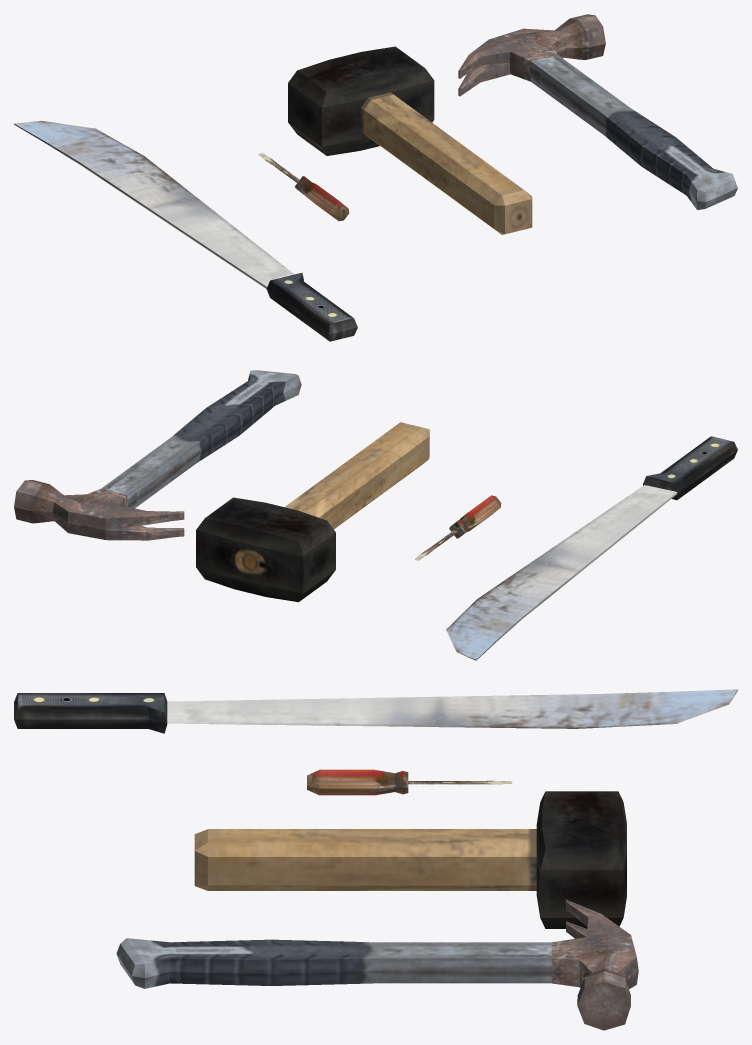
The model's file is OldTools.fbx.
The picture shows the model from 3 angles, top to bottom: view 1: azimuth 30°, elevation 25°; view 2: azimuth 150°, elevation 25°; view 3: azimuth 270°, elevation 25°; orthographic projection. The views are drawn at different scales.
Visible parts, largest first — view 1: DrillingHammer, ClawHammer, Machete, Screwdriver; view 2: DrillingHammer, ClawHammer, Machete, Screwdriver; view 3: DrillingHammer, ClawHammer, Machete, Screwdriver.
Part boxes in pixels (<box>): DrillingHammer: <box>288,46,532,234</box>; ClawHammer: <box>458,14,737,209</box>; Machete: <box>14,120,357,341</box>; Screwdriver: <box>258,153,349,221</box>; DrillingHammer: <box>196,422,429,602</box>; ClawHammer: <box>14,370,301,540</box>; Machete: <box>446,436,737,660</box>; Screwdriver: <box>415,495,501,560</box>; DrillingHammer: <box>194,791,626,928</box>; ClawHammer: <box>116,899,638,1030</box>; Machete: <box>14,689,737,733</box>; Screwdriver: <box>307,769,512,795</box>.
Size of the model in its own units: 81.42 by 9.92 by 78.69.
